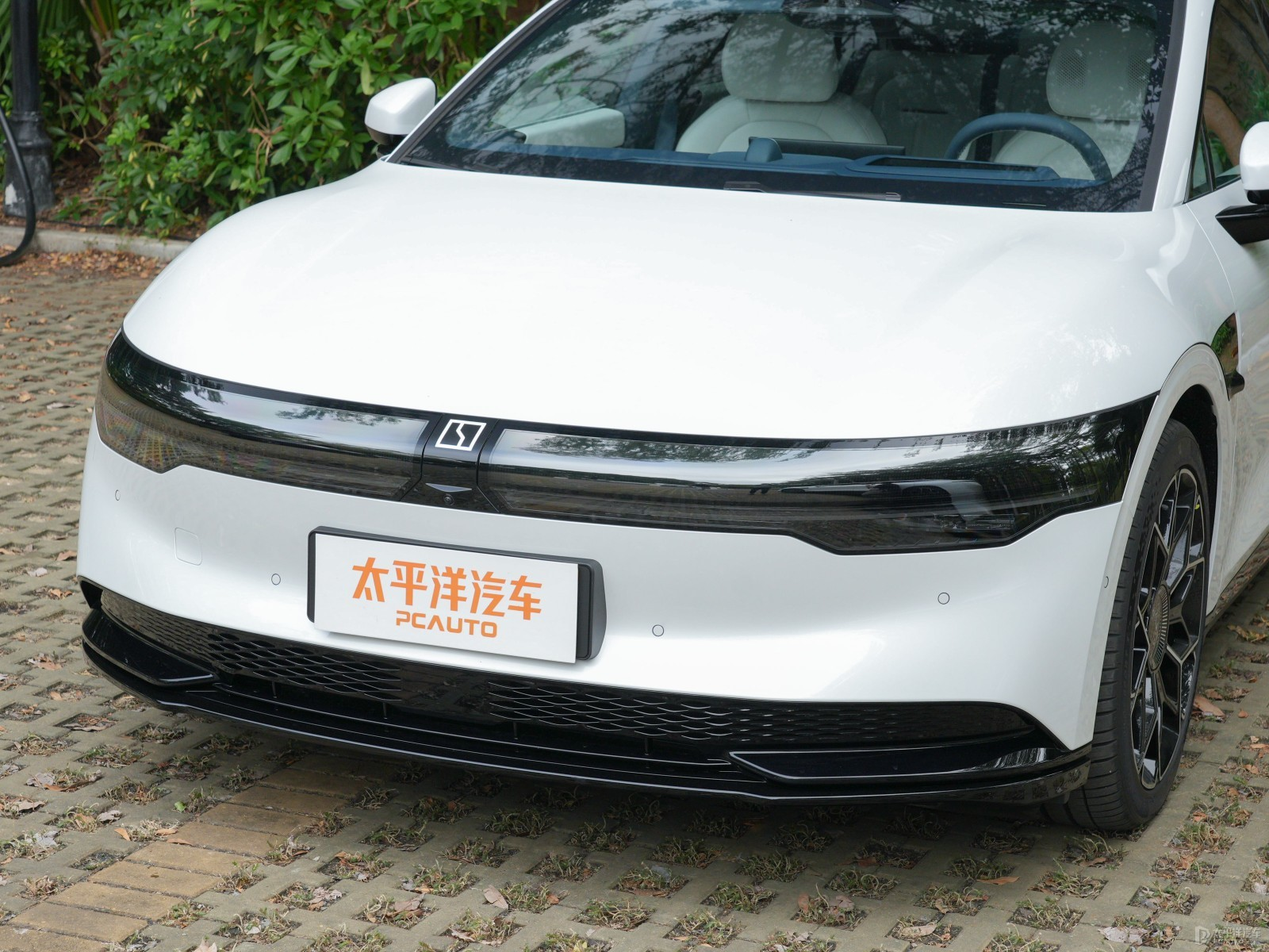ZEEKR: (435, 420, 485, 451)
